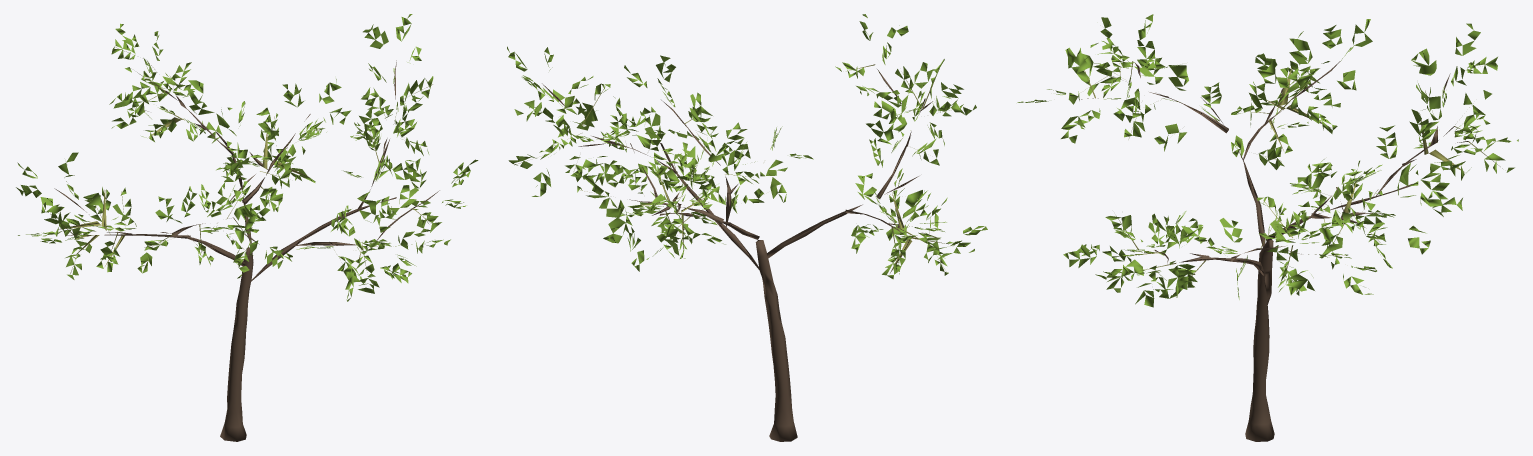
The picture shows the model from 3 angles, left to right: view 1: azimuth 30°, elevation 25°; view 2: azimuth 150°, elevation 25°; view 3: azimuth 270°, elevation 25°; orthographic projection. The views are drawn at different scales.
Visible parts, largest first — view 1: body; view 2: body; view 3: body.
Boxes of the visible parts, x1,y1,x2,y2 form: body: (16,14,478,441); body: (507,14,987,441); body: (1017,14,1518,441).
Size of the model in its own units: 4.58 by 3.69 by 4.19.
Materials: 1 (1 with a texture image).
